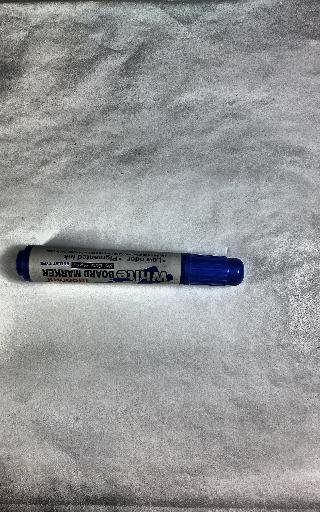marcador azul: (16, 245, 244, 287)
